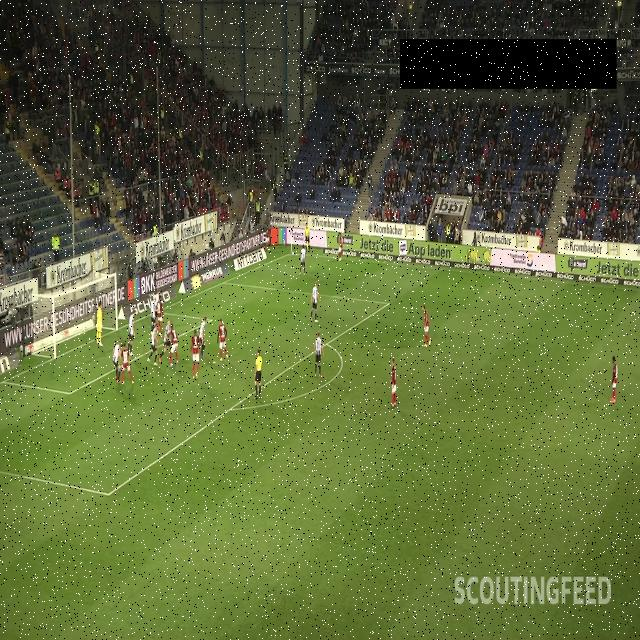Ball: (292, 250, 294, 256)
GoalKeeper: (96, 302, 104, 347)
Referee: (254, 350, 262, 400), (304, 224, 310, 254)
TEAM 1: (120, 342, 134, 386), (216, 319, 228, 361), (190, 329, 200, 379), (170, 324, 180, 368), (422, 305, 431, 349), (390, 359, 397, 409), (156, 296, 164, 336), (611, 356, 617, 403), (264, 224, 272, 250), (338, 231, 343, 263)
TEAM 2: (159, 319, 173, 363), (148, 322, 160, 368), (310, 280, 321, 326), (314, 332, 324, 377), (112, 340, 122, 384), (199, 315, 207, 359), (128, 309, 135, 357), (150, 296, 159, 331), (154, 290, 161, 321), (300, 244, 306, 277)
